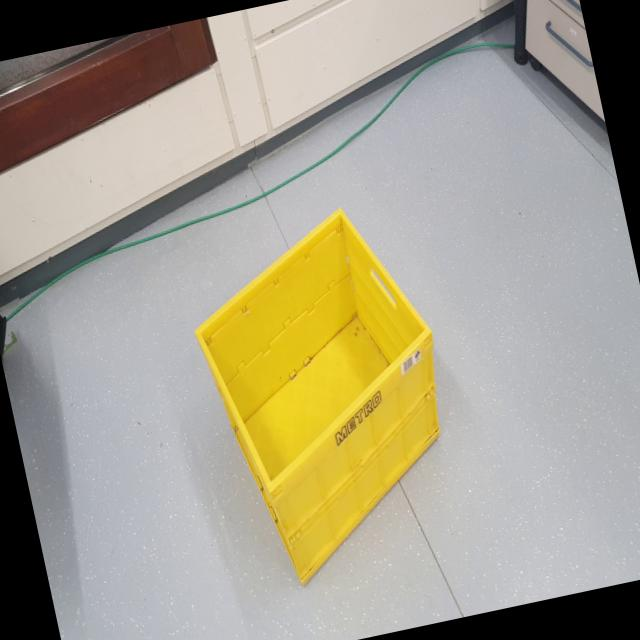box: (169, 183, 480, 604)
